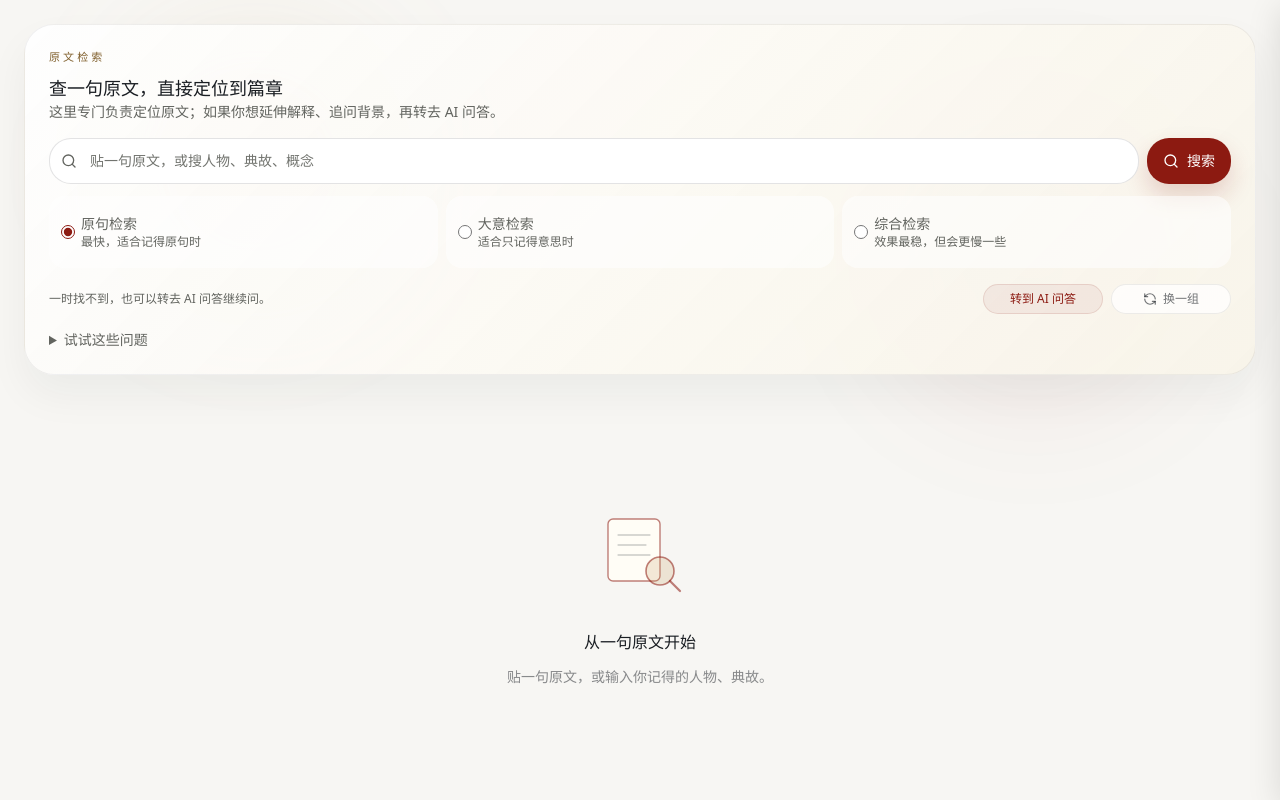
SearchPanel › shows service error when network request cannot reach the search service
Type "孔子怎样谈仁" into the field with placeholder "贴一句原文，或搜人物、典故、概念" at (594,160), box [49, 138, 1139, 184]
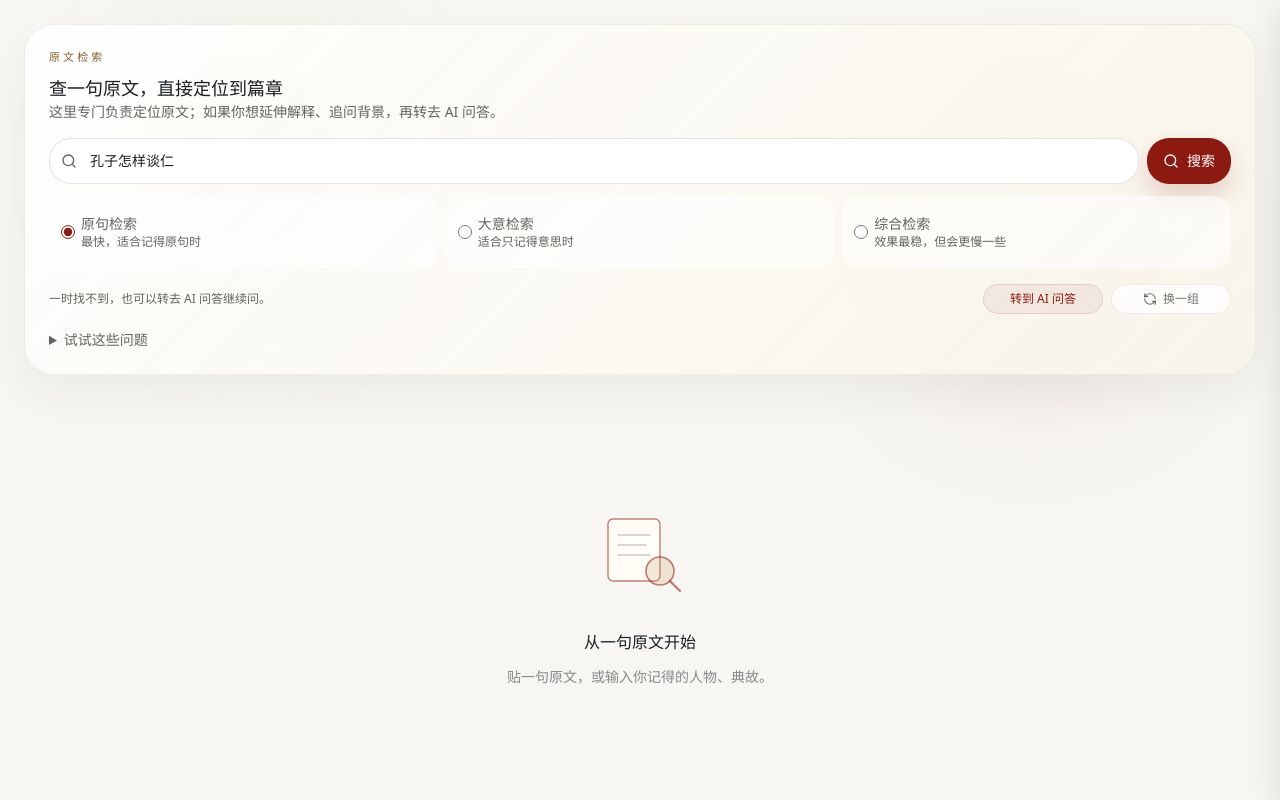
Click the button "搜索" at (1189,160), box [1147, 138, 1231, 184]
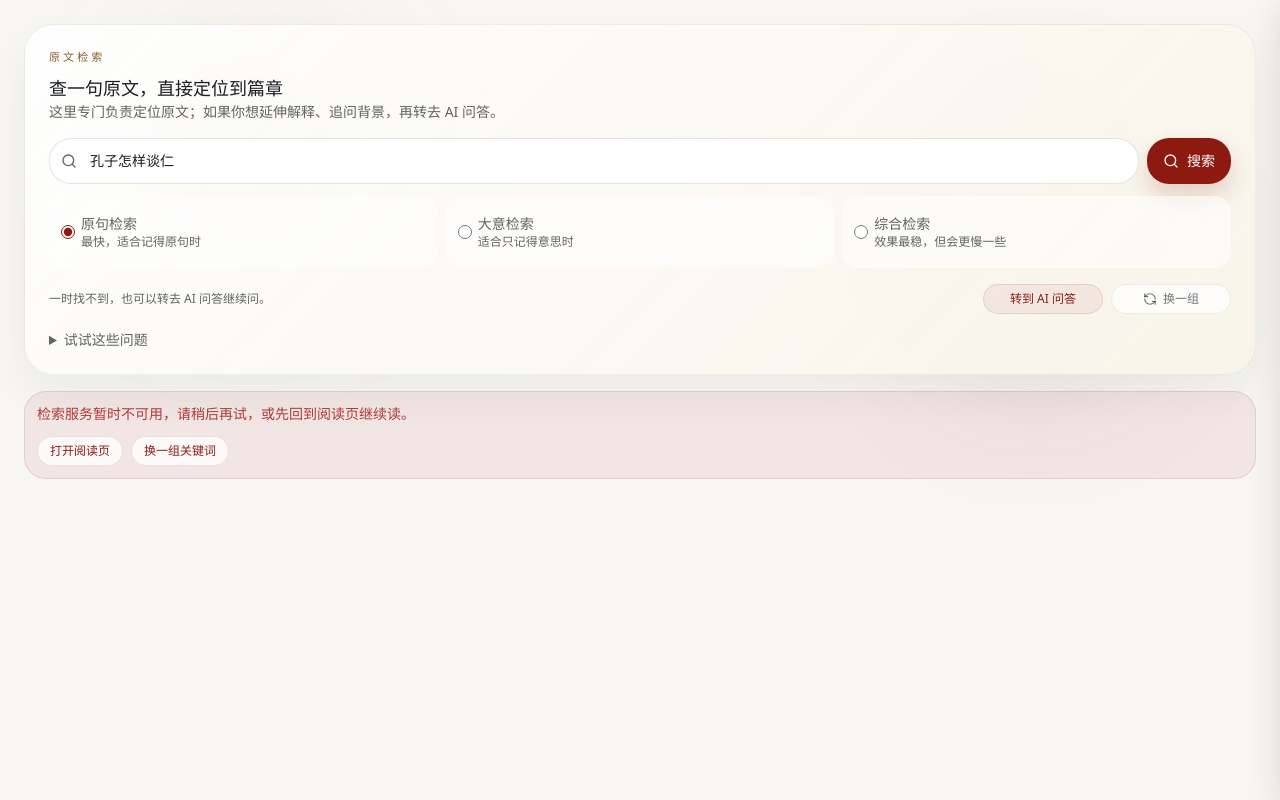
Check: the text "检索服务暂时不可用，请稍后再试，或先回到阅读页继续读。" is shown, box [37, 404, 415, 422]
